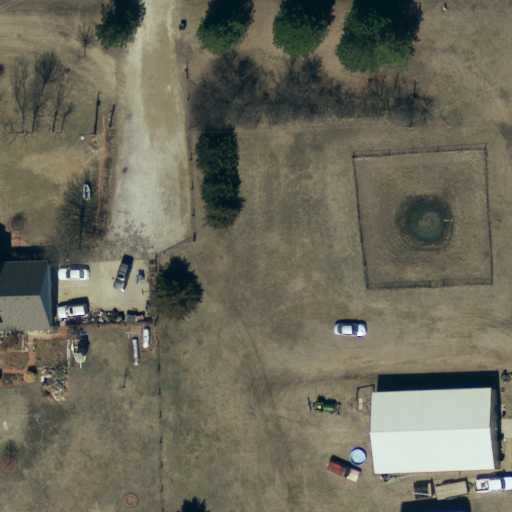DT: (74, 128, 100, 146)
